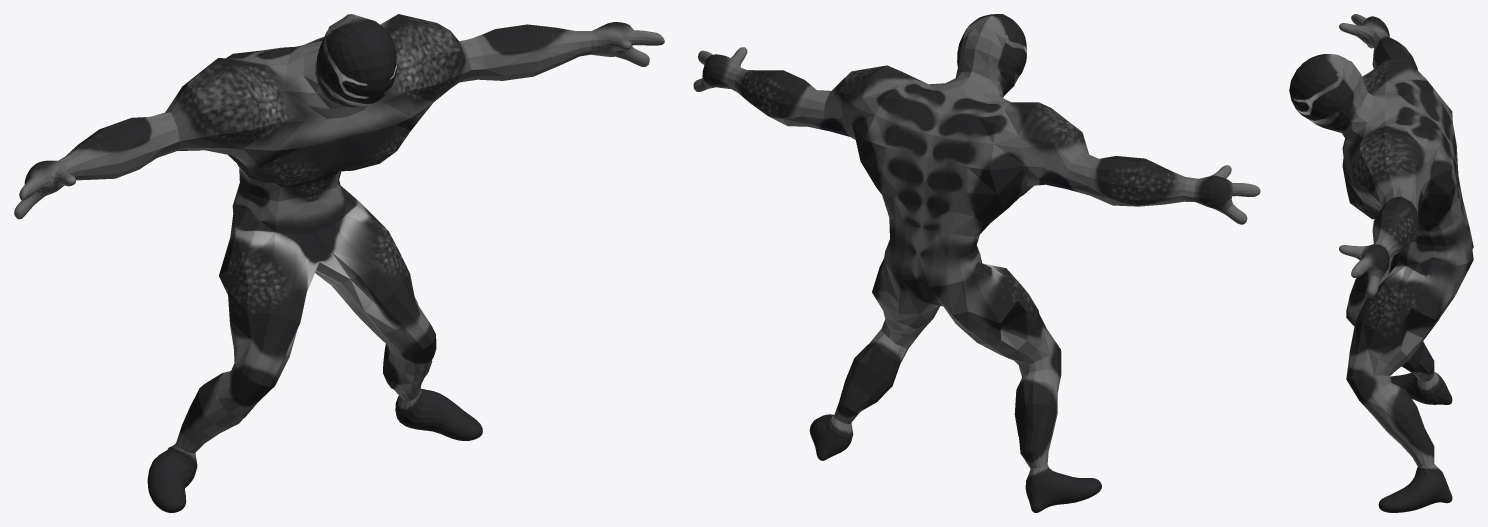
The model's file is minos.OBJ.
3 renders of one model, left to right at view 1: azimuth 30°, elevation 25°; view 2: azimuth 150°, elevation 25°; view 3: azimuth 270°, elevation 25°, orthographic. The views are drawn at different scales.
Visible parts, largest first — view 1: Group26836; view 2: Group26836; view 3: Group26836.
Boxes of the visible parts, <box> form: Group26836: <box>14,14,664,512</box>; Group26836: <box>693,14,1260,512</box>; Group26836: <box>1289,14,1473,512</box>.
Size of the model in its own units: 2.35 by 1.7 by 0.7104.
